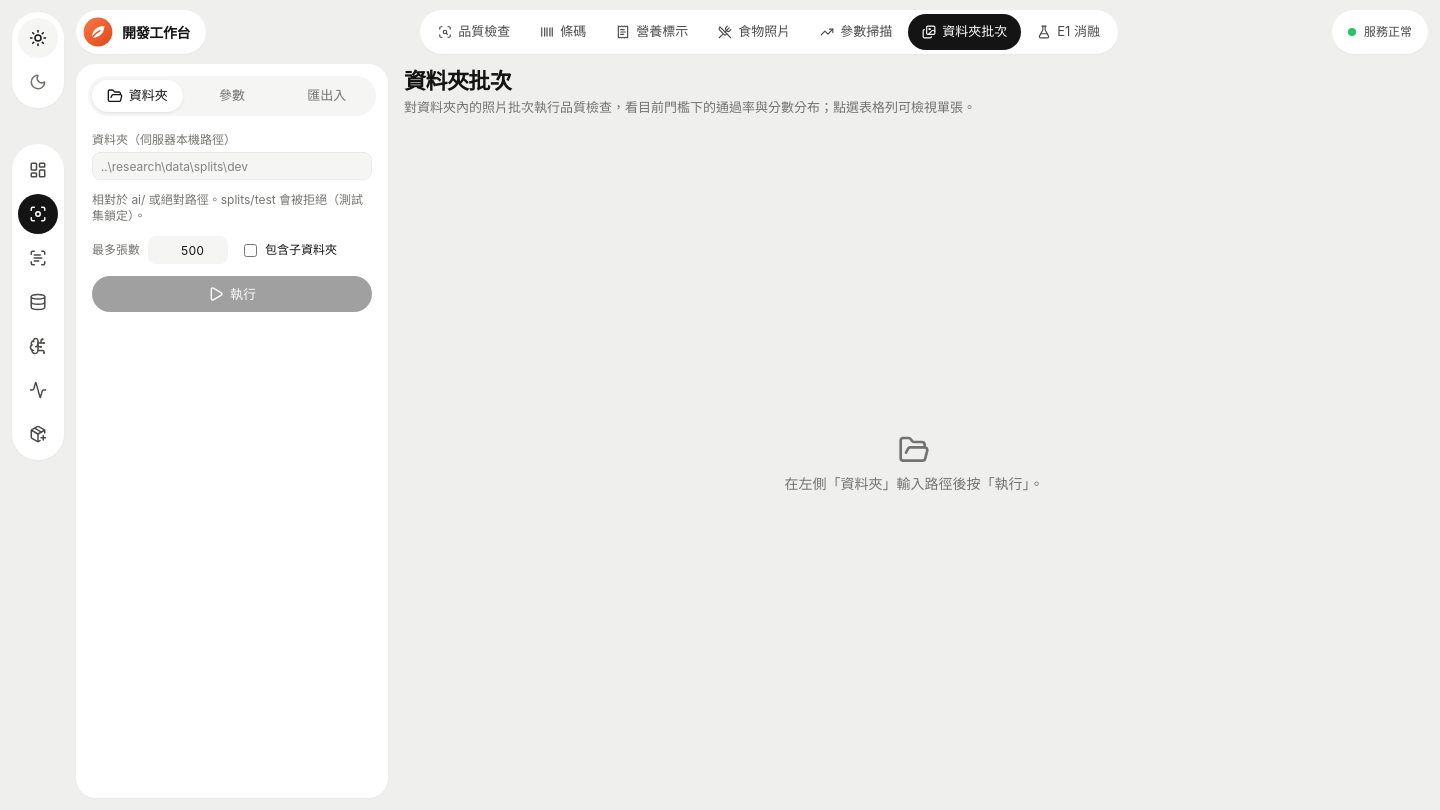
Scenario: 資料夾批次頁 › 測試集被拒絕時顯示說明
Type "D:/data/splits/test" into the field labelled "資料夾" at point(232, 166), box [92,152,372,180]
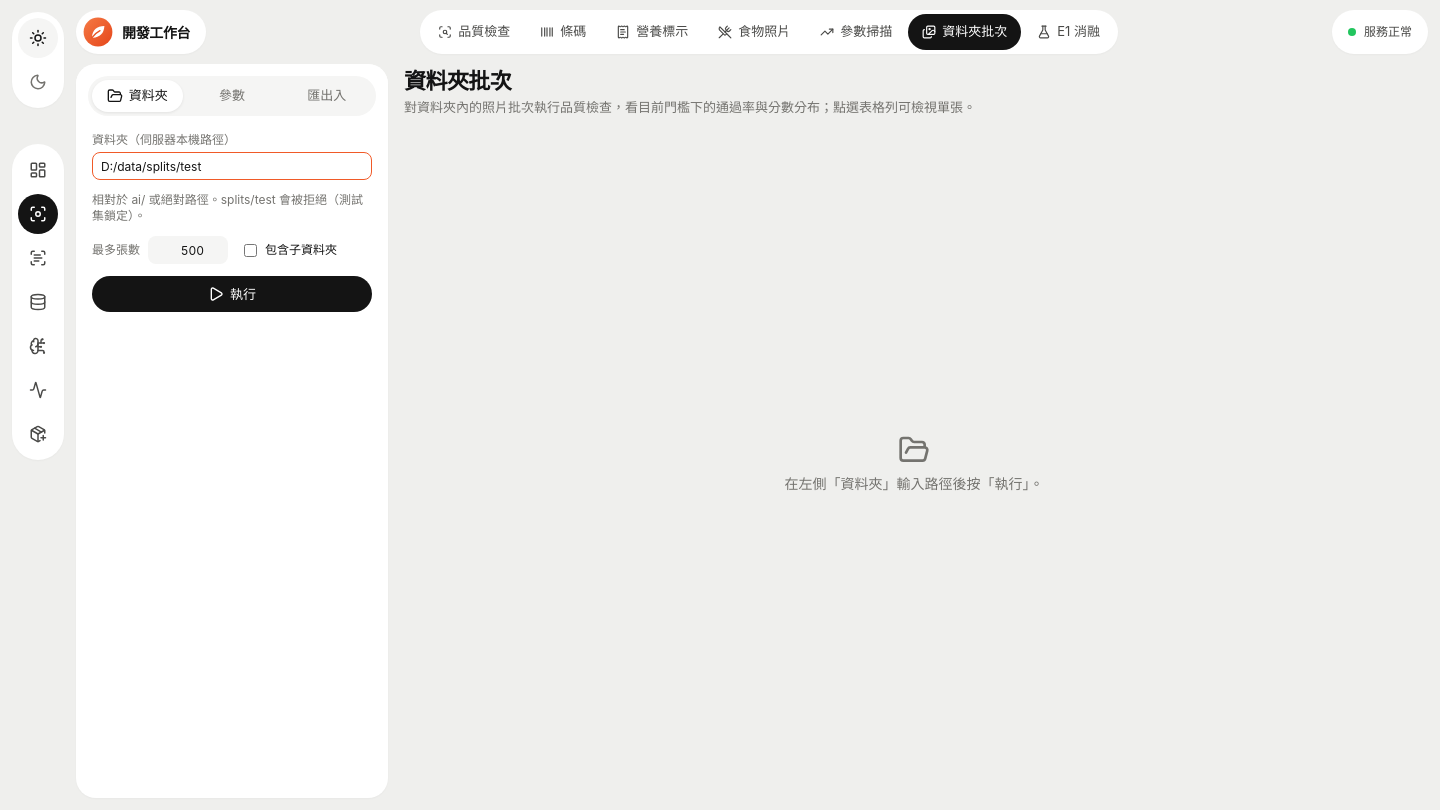
Click the button "執行" at point(232, 294), box [92,276,372,312]
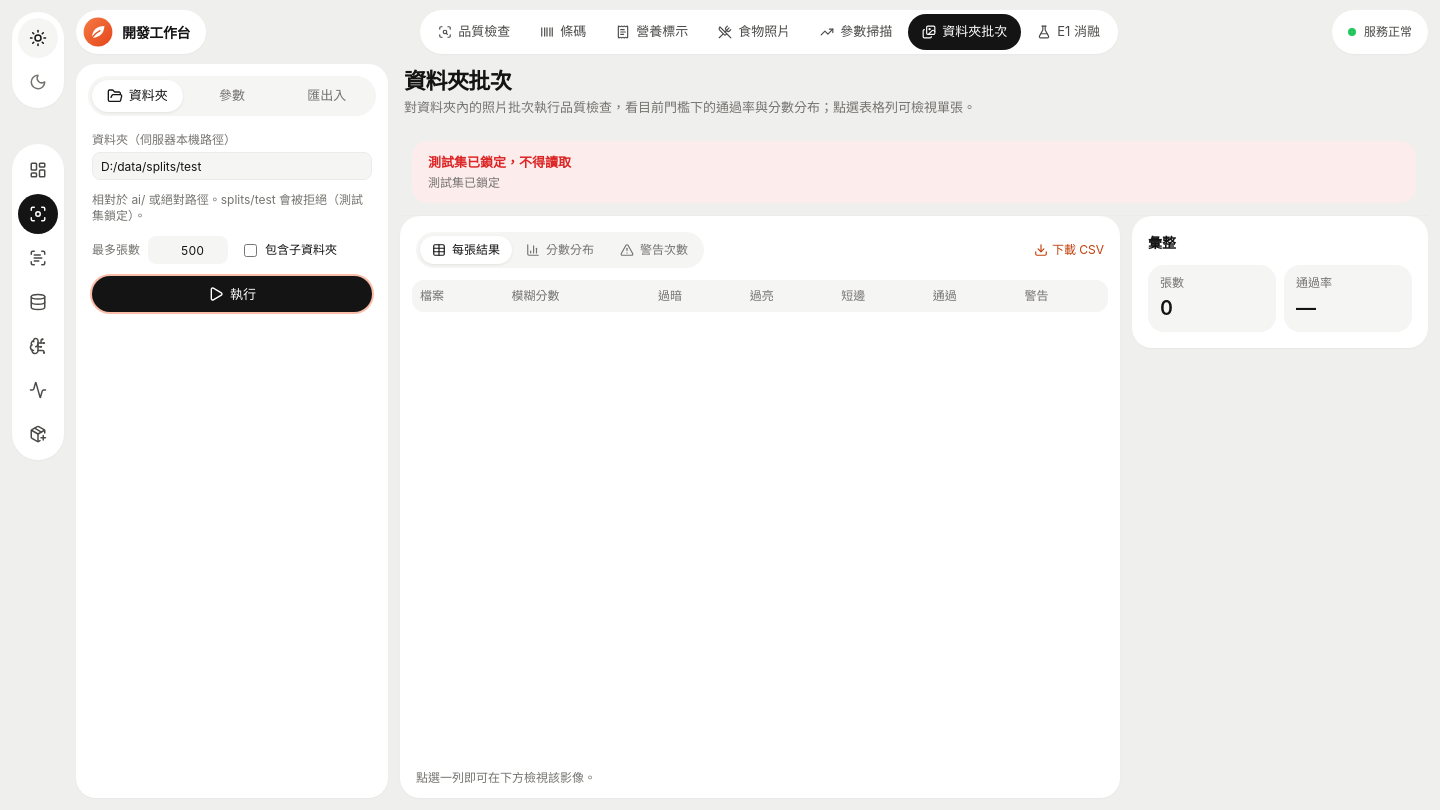
Now the message "測試集已鎖定，不得讀取 測試集已鎖定" is shown, box [412,141,1416,202]
